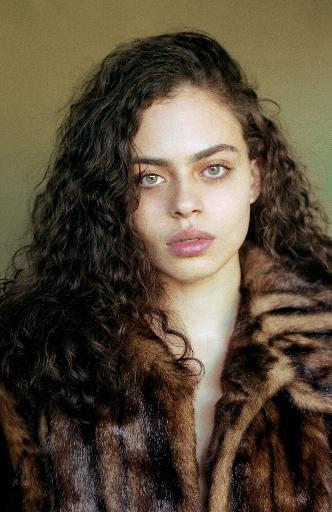left_eye: (199, 163, 233, 183)
left_lip_corner: (209, 232, 219, 245)
right_eye: (139, 172, 168, 191)
right_lip_corner: (166, 237, 174, 250)
